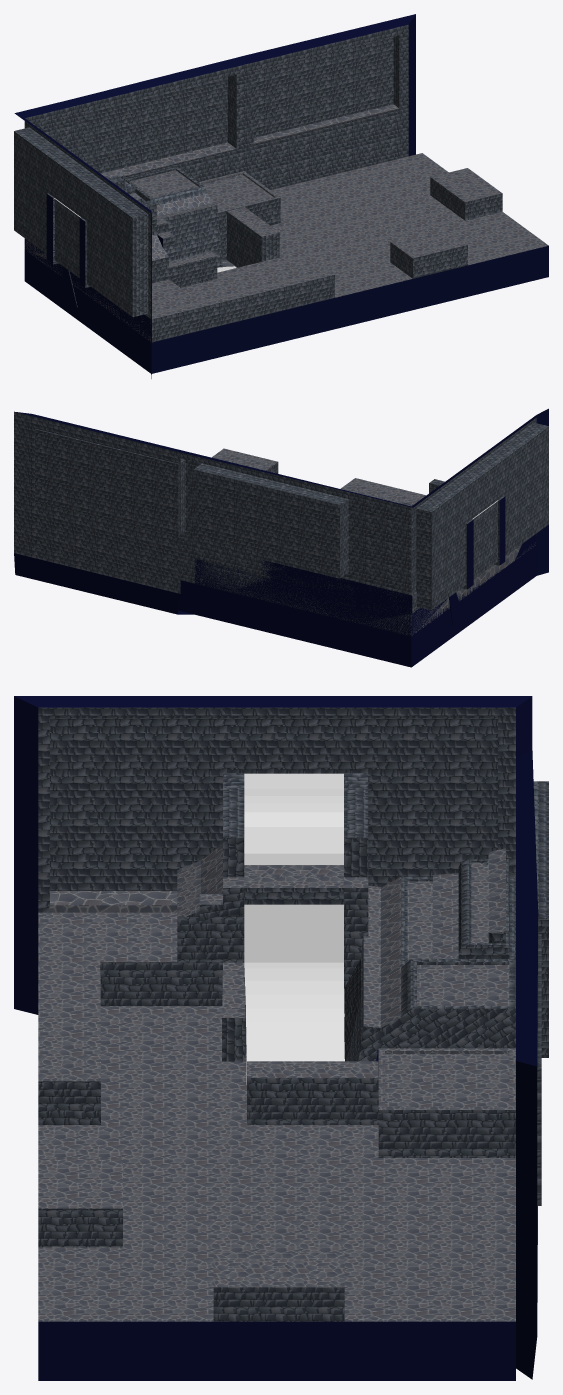
File: локация нормад4351.fbx
3 views of the same model, one above another, from view 1: azimuth 30°, elevation 25°; view 2: azimuth 150°, elevation 25°; view 3: azimuth 270°, elevation 25° (orthographic). The views are drawn at different scales.
Parts seen in each view (by area): view 1: Cube.005; view 2: Cube.005; view 3: Cube.005.
Part boxes in pixels (x1=…): Cube.005: x1=14, y1=14, x2=548, y2=378; Cube.005: x1=14, y1=408, x2=548, y2=667; Cube.005: x1=14, y1=696, x2=548, y2=1380.
Bounding box in the file's own units: 4900 × 1878 × 2904.
